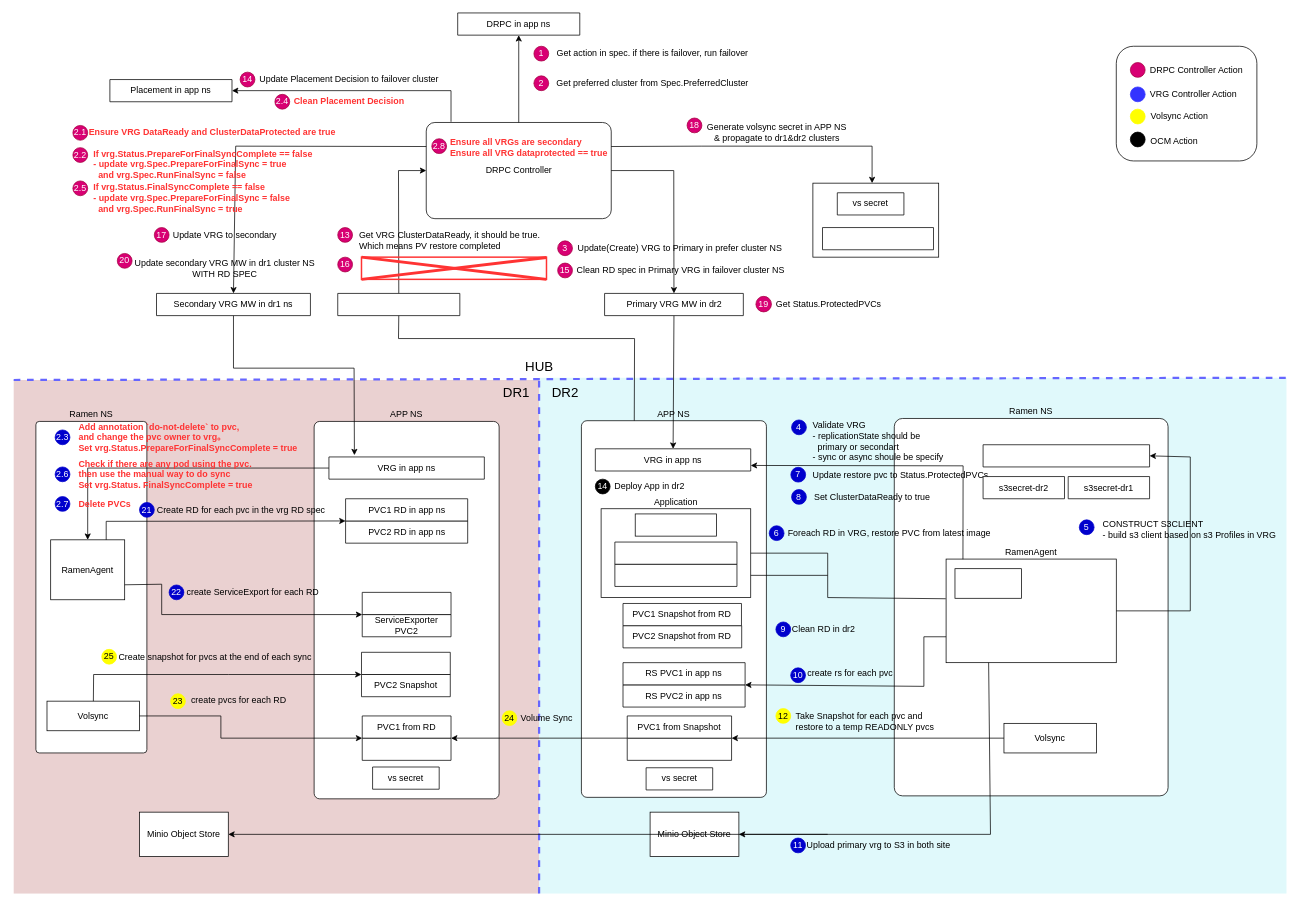
Some shapes in this 1307 by 908 pixel diagram are drawn without their labels. The centre of each missing label's shape, as x and y in pixels:
"Configmap: ramen-dr-cluster-operator-config" belongs at (x=1066, y=455).
"Deployment" belongs at (x=675, y=524).
"PVC1 restore from RD" belongs at (x=675, y=552).
"PVC1 Snapshot" belongs at (x=405, y=663).
"PVC2 from RD" belongs at (x=406, y=748).
"PVC2 from Snapshot" belongs at (x=679, y=748).
"PVC2 restore from RD" belongs at (x=675, y=575).
"S3 Client" belongs at (x=988, y=583).
"ServiceExporter PVC1" belongs at (x=406, y=603).
"VRG ClusterDataReady, DataReady Should be true (VRG changedcompleted)" belongs at (x=453, y=268).
"VRG MCV in dr2 ns" belongs at (x=398, y=304).
"vs secret policy" belongs at (x=878, y=238).
